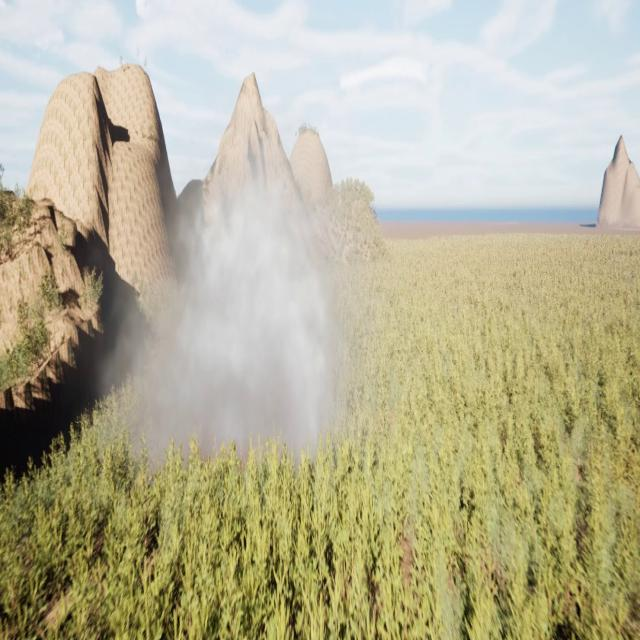smoke: (98, 171, 356, 474)
